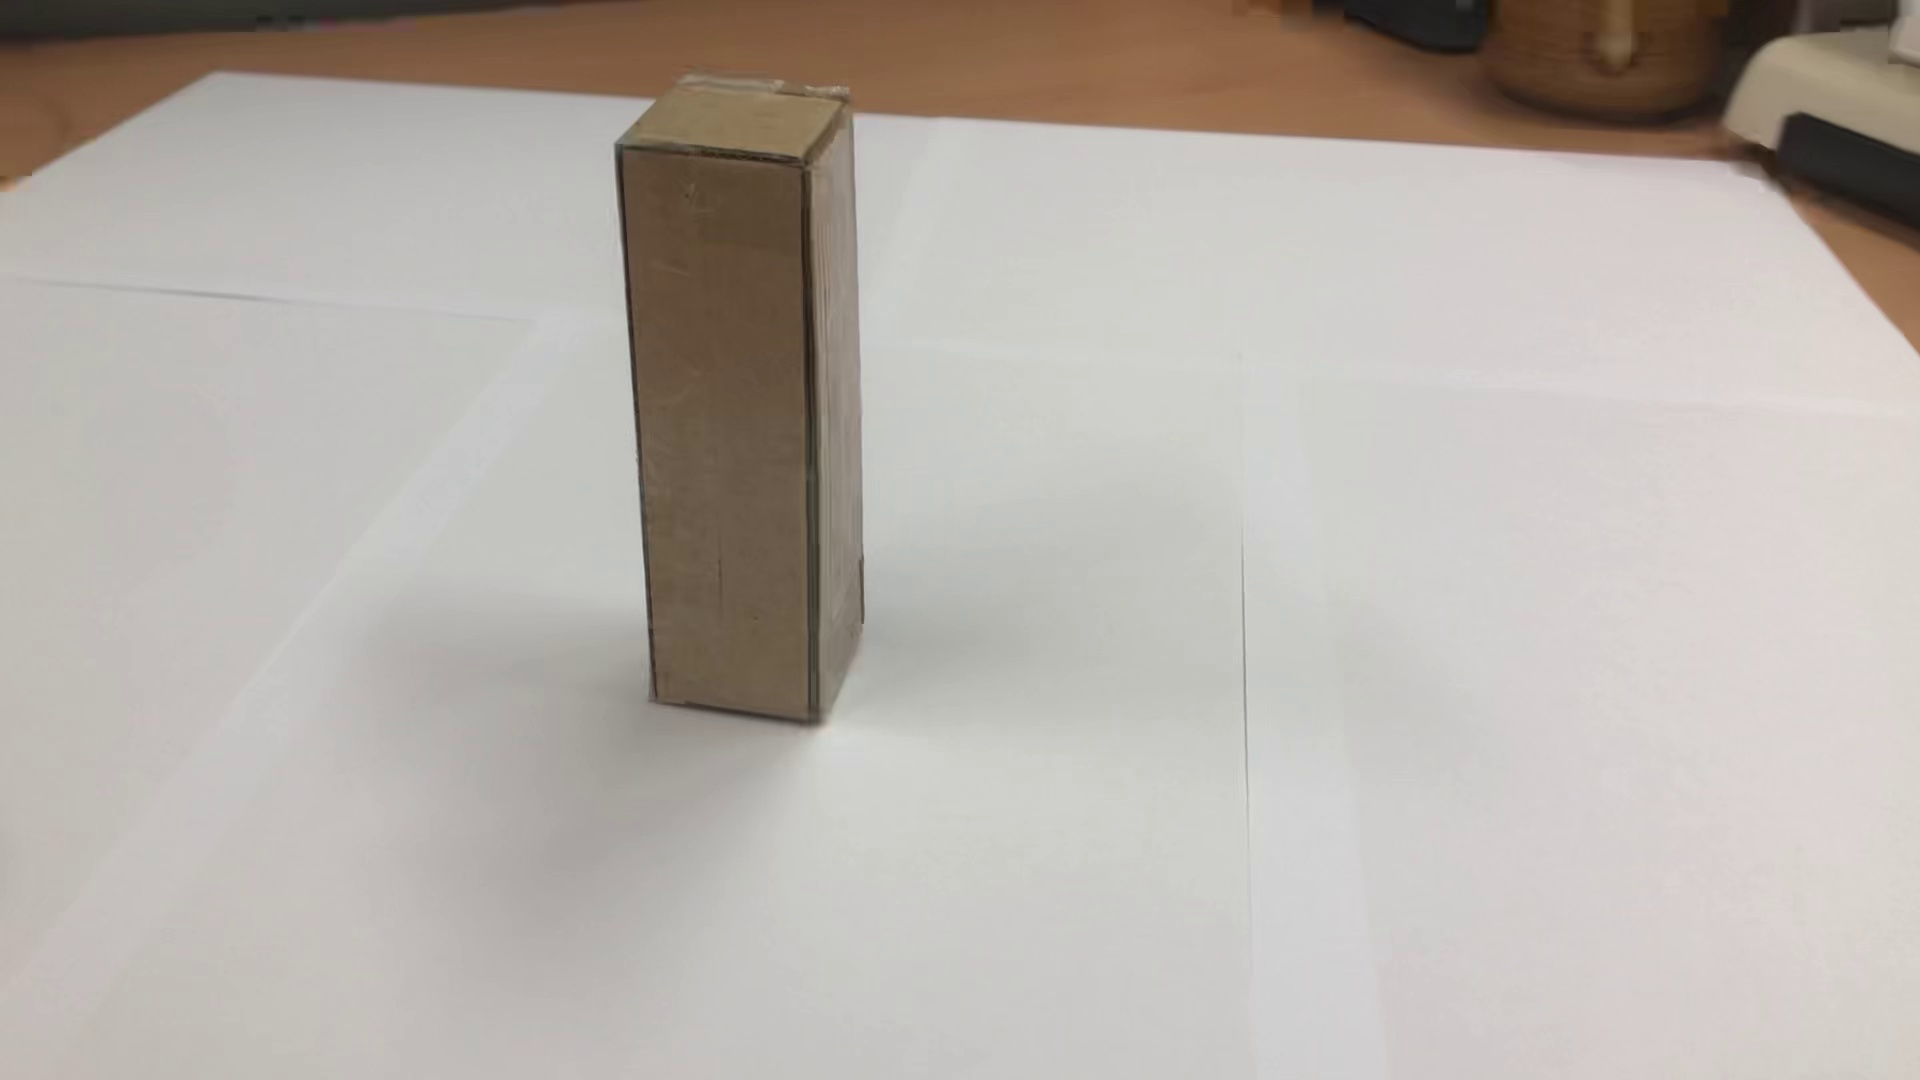box: (576, 44, 893, 756)
